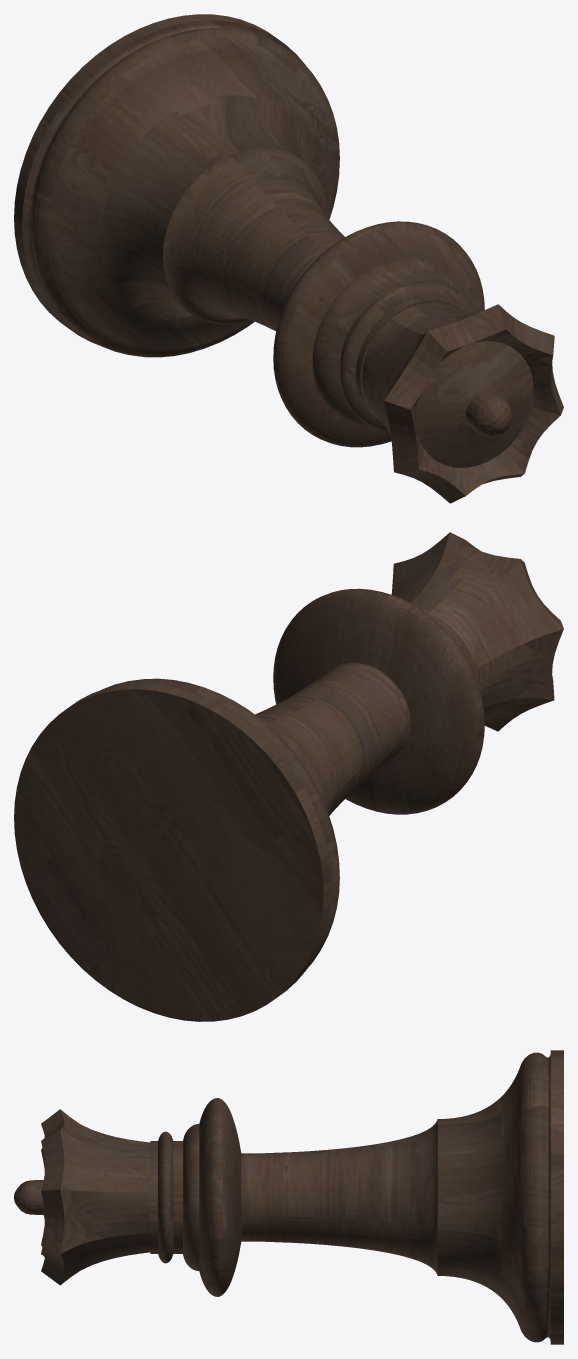
Rendered from queen.obj.
The picture shows the model from 3 angles, top to bottom: view 1: azimuth 30°, elevation 25°; view 2: azimuth 150°, elevation 25°; view 3: azimuth 270°, elevation 25°; orthographic projection. The views are drawn at different scales.
Visible parts, largest first — view 1: queen; view 2: queen; view 3: queen.
Boxes of the visible parts, box(x1,y1,x2,y2) form: queen: box(14, 14, 563, 503); queen: box(14, 532, 563, 1021); queen: box(14, 1050, 563, 1344).
Bounding box in the file's own units: 32.16 × 32.16 × 59.99.
1 material, 1 textured.
